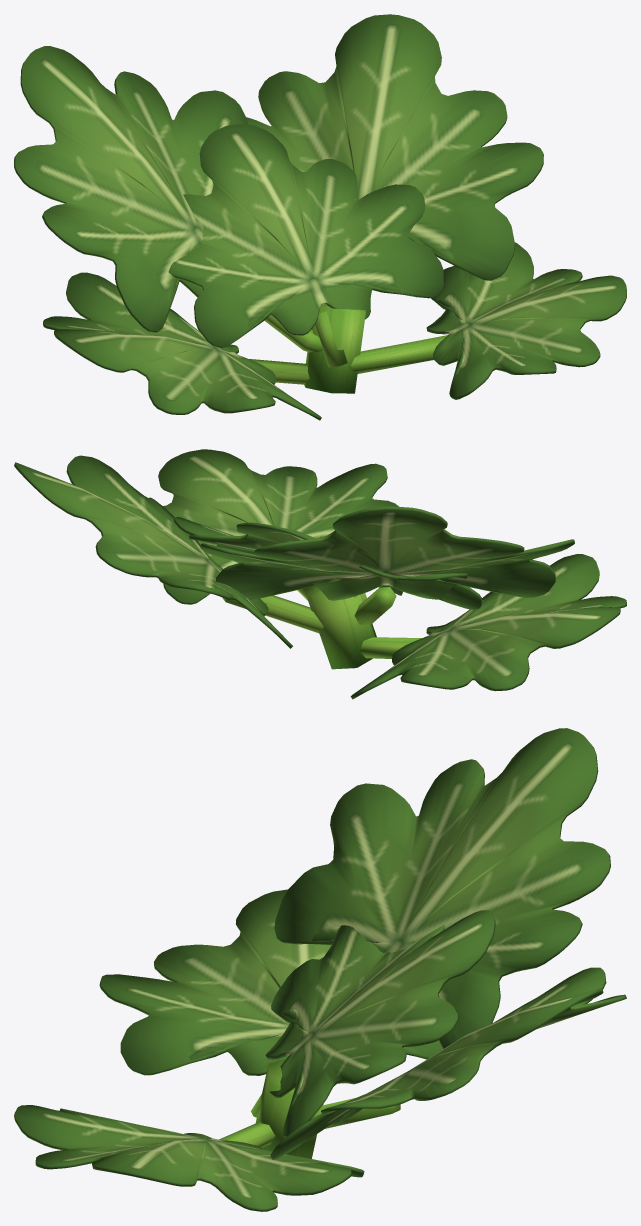
File: NP_Zucchini_Young.fbx
3 views of the same model, one above another, from view 1: azimuth 30°, elevation 25°; view 2: azimuth 150°, elevation 25°; view 3: azimuth 270°, elevation 25° (orthographic). The views are drawn at different scales.
Visible parts, largest first — view 1: NP_Zucchini_Young; view 2: NP_Zucchini_Young; view 3: NP_Zucchini_Young.
Boxes of the visible parts, left/top/right/bottom form: NP_Zucchini_Young: left=14, top=14, right=626, bottom=420; NP_Zucchini_Young: left=14, top=449, right=626, bottom=699; NP_Zucchini_Young: left=14, top=728, right=626, bottom=1211.
Size of the model in its own units: 42.26 by 23.11 by 38.77.
